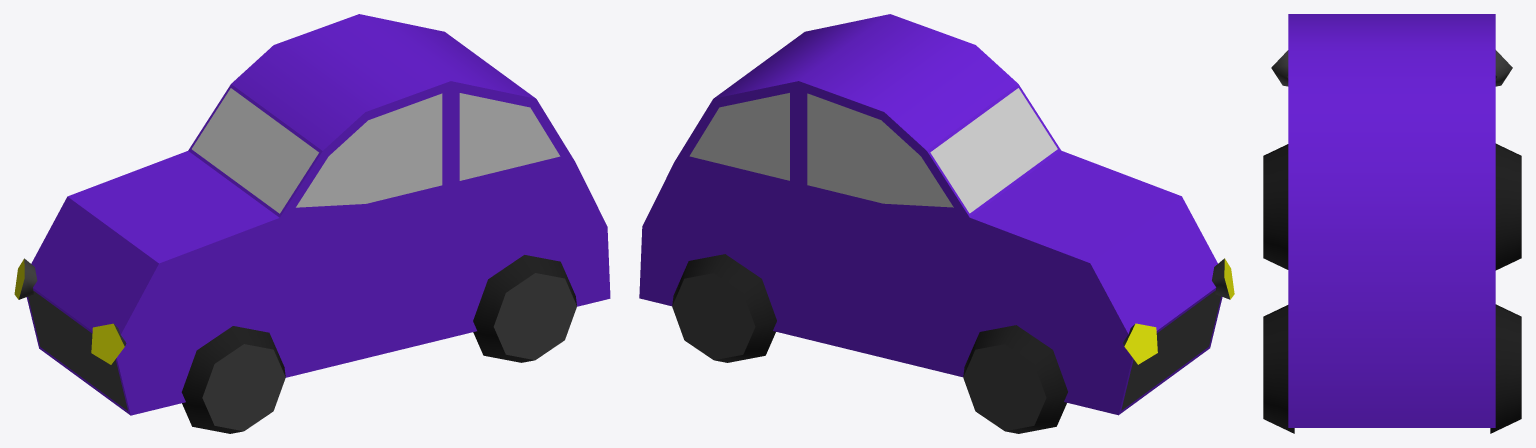
Rendered from Wooden_Car_B.FBX.
3 views of the same model, side by side, from view 1: azimuth 30°, elevation 25°; view 2: azimuth 150°, elevation 25°; view 3: azimuth 270°, elevation 25° (orthographic). The views are drawn at different scales.
Visible parts, largest first — view 1: Wooden_Car; view 2: Wooden_Car; view 3: Wooden_Car.
Boxes of the visible parts, x1=… form: Wooden_Car: x1=14, y1=14, x2=610, y2=433; Wooden_Car: x1=639, y1=14, x2=1234, y2=433; Wooden_Car: x1=1263, y1=14, x2=1521, y2=433.
Size of the model in its own units: 112 by 63.34 by 43.43.
